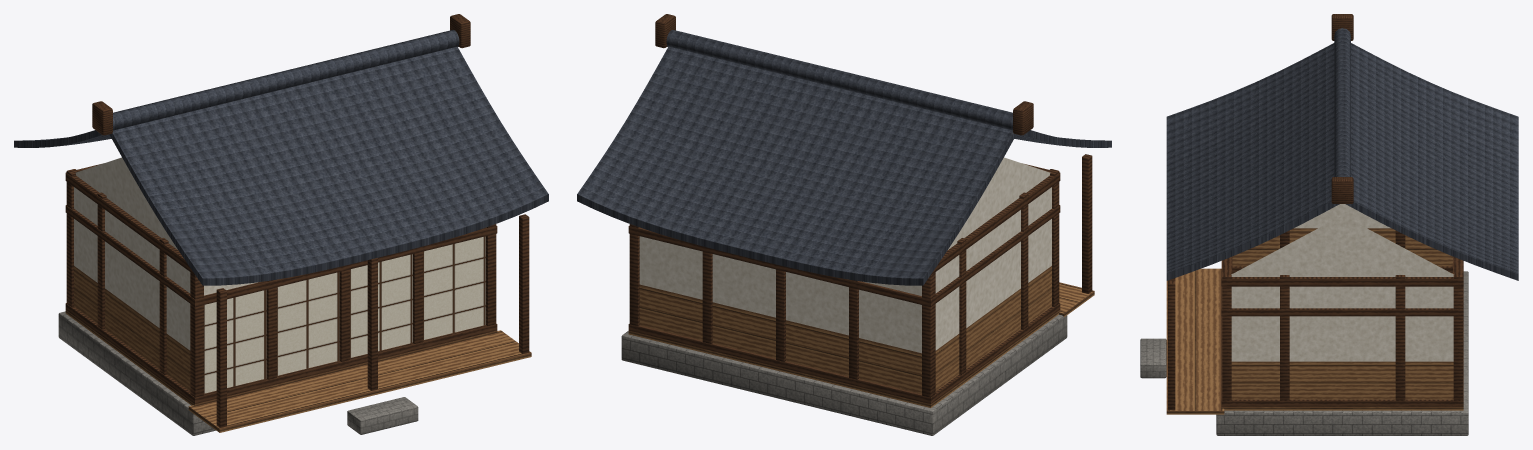
The model's file is house.gltf.
The picture shows the model from 3 angles, left to right: view 1: azimuth 30°, elevation 25°; view 2: azimuth 150°, elevation 25°; view 3: azimuth 270°, elevation 25°; orthographic projection. The views are drawn at different scales.
Visible parts, largest first — view 1: HouseMesh; view 2: HouseMesh; view 3: HouseMesh.
Boxes of the visible parts, x1,y1,x2,y2 form: HouseMesh: [14, 14, 548, 435]; HouseMesh: [577, 14, 1111, 435]; HouseMesh: [1140, 14, 1518, 435].
Size of the model in its own units: 7.56 by 5.63 by 7.2.
Materials: 6 (6 with a texture image).
